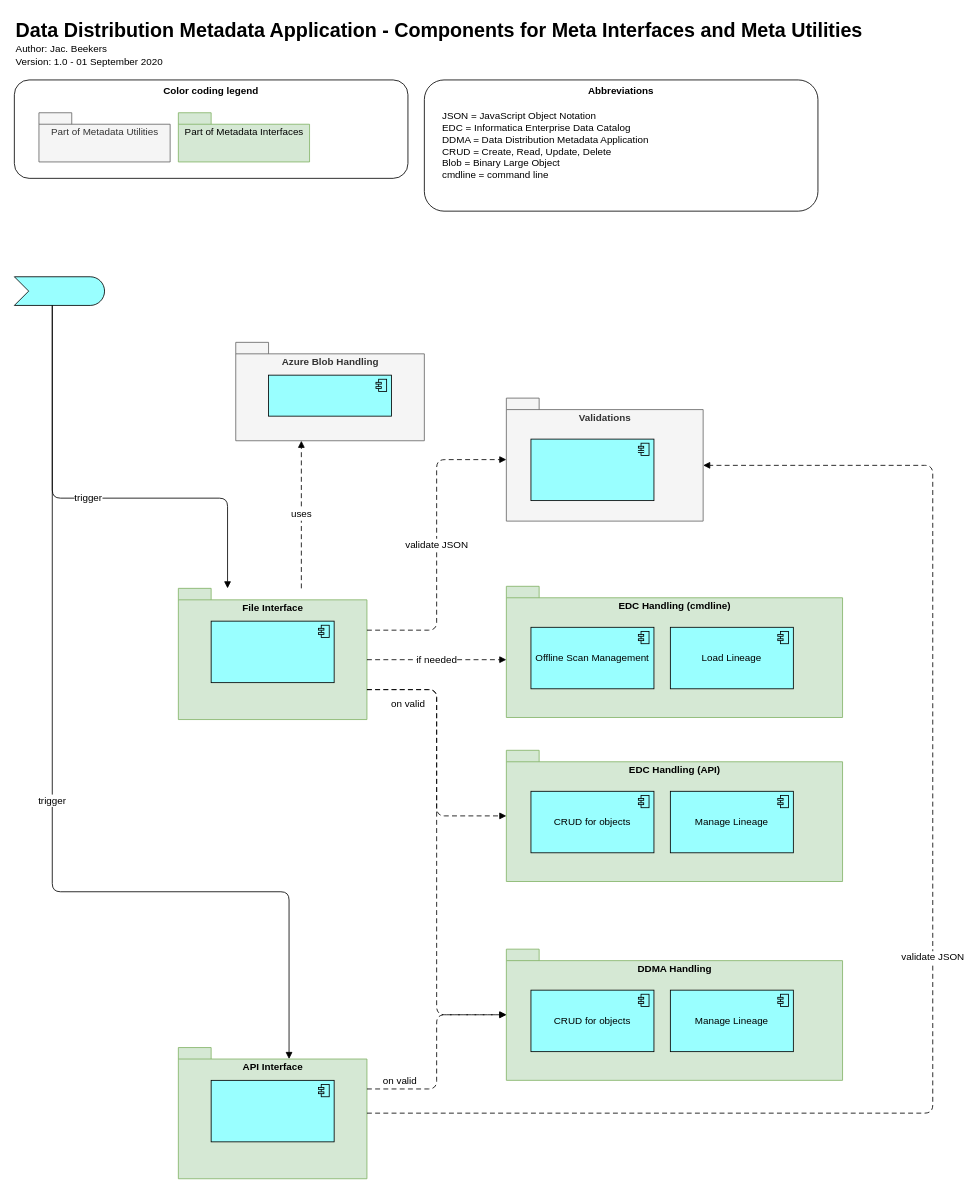
Image size: 978x1193. Some labels were removed from this diagram. The shapes that lost their labels are listed below. From the top down, each one's centre as x and y in pixels, then its label:
(59,290): new JSON file
(330,395): Azure File Handling
(592,469): Validate JSON against schema
(272,651): Process JSON files
(272,1111): Process JSON requests
